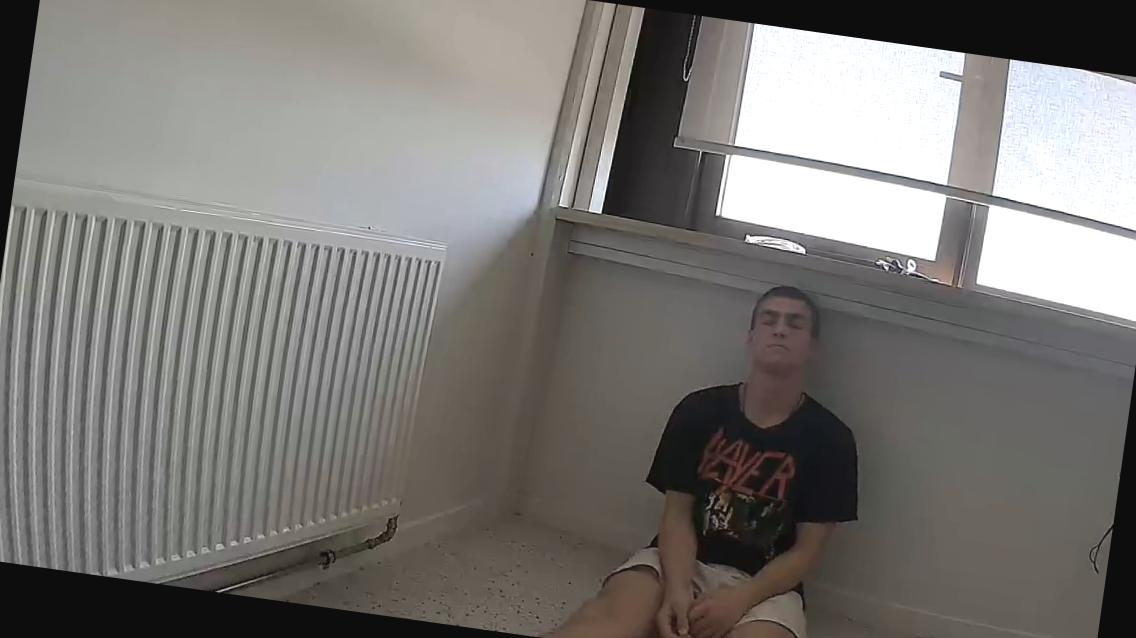korban: (505, 247, 899, 638)
